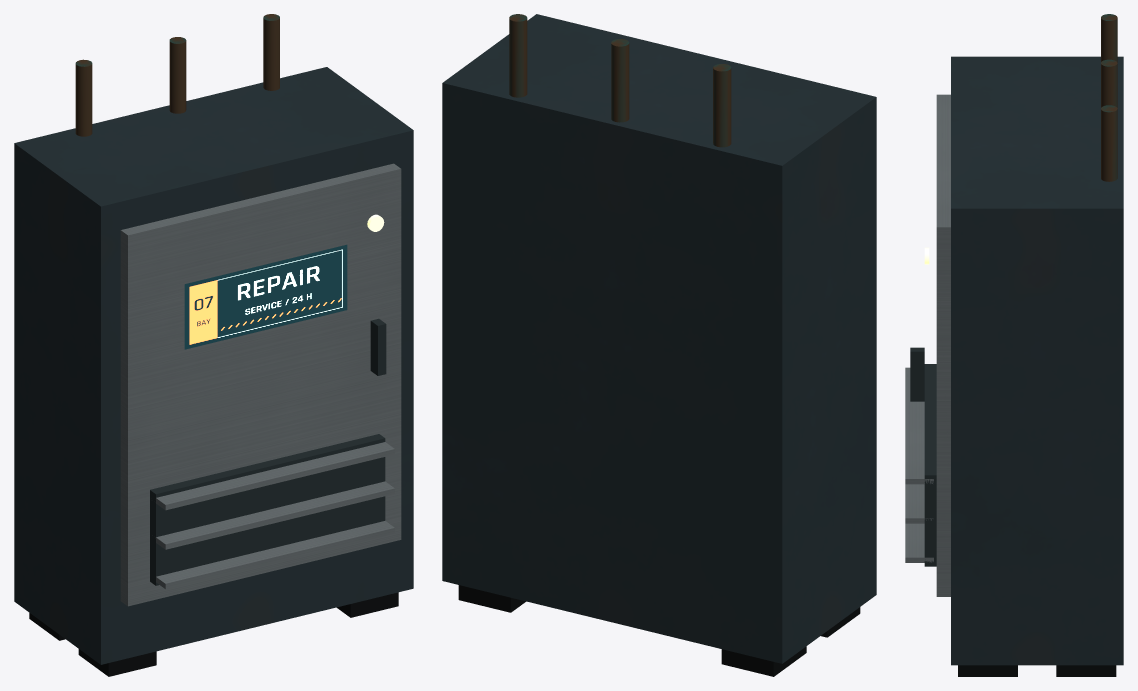
File: NC_PowerCabinet_LOD1.fbx
3 renders of one model, left to right at view 1: azimuth 30°, elevation 25°; view 2: azimuth 150°, elevation 25°; view 3: azimuth 270°, elevation 25°, orthographic. The views are drawn at different scales.
Visible parts, largest first — view 1: NC_PowerCabinet_LOD1; view 2: NC_PowerCabinet_LOD1; view 3: NC_PowerCabinet_LOD1.
Part boxes in pixels (x1,y1,x2,y2): NC_PowerCabinet_LOD1: (14,14,413,676); NC_PowerCabinet_LOD1: (442,14,876,676); NC_PowerCabinet_LOD1: (905,14,1123,676).
Size of the model in its own units: 150 by 250 by 91.
